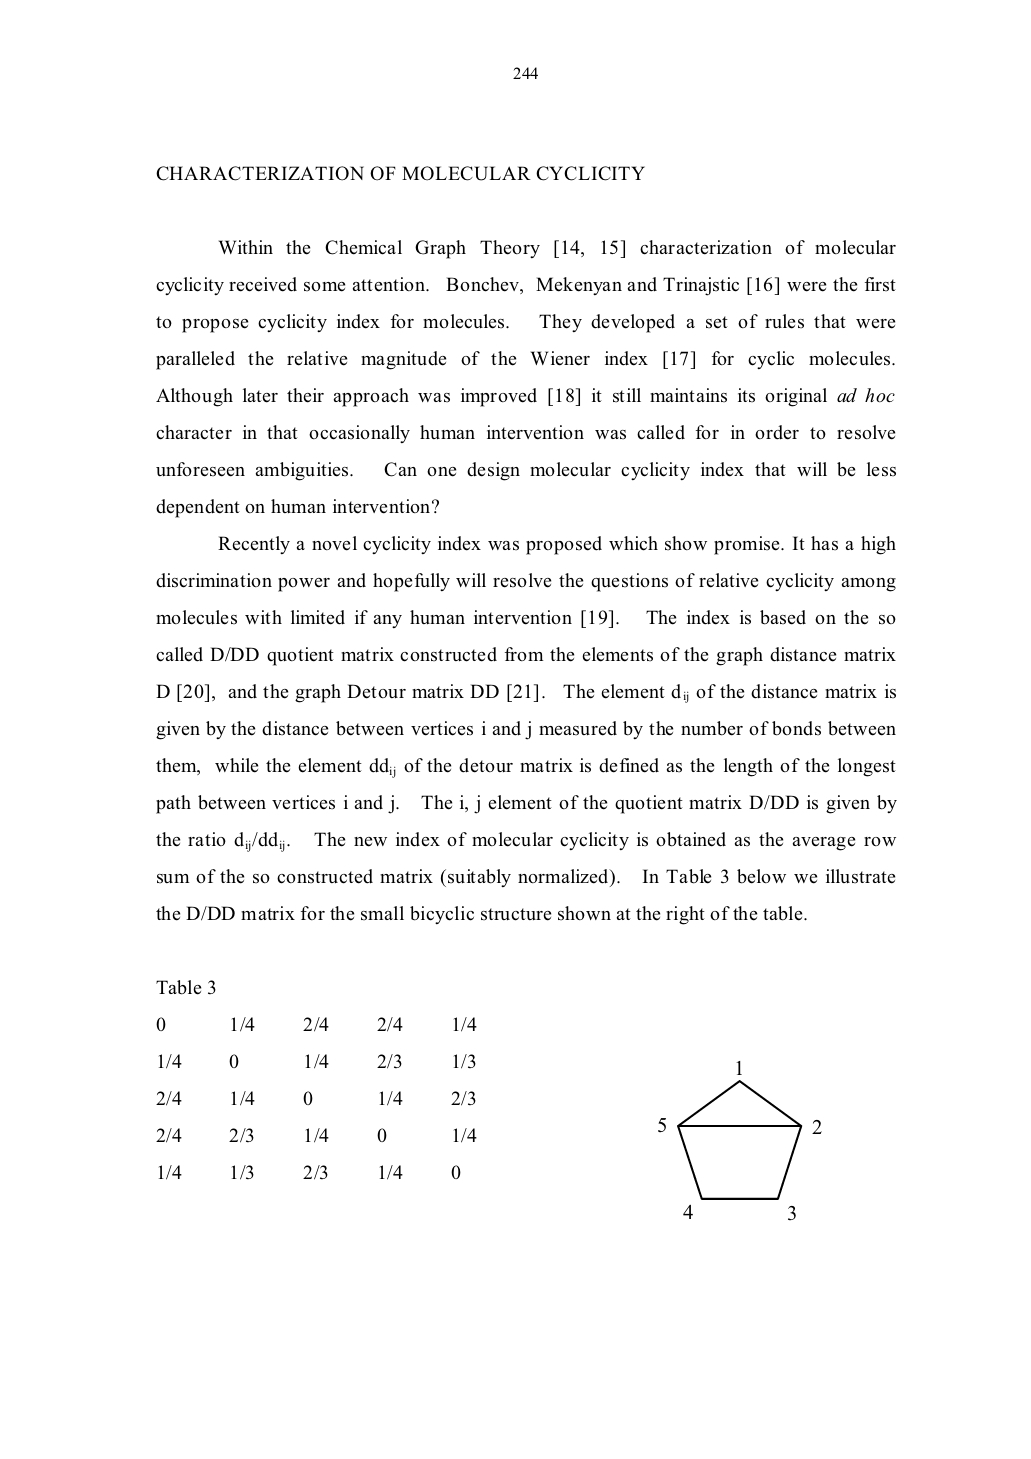Table: (156, 1017, 476, 1179)
figure: (658, 1060, 821, 1220)
